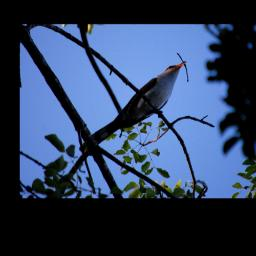Cuckoo: (91, 59, 189, 142)
